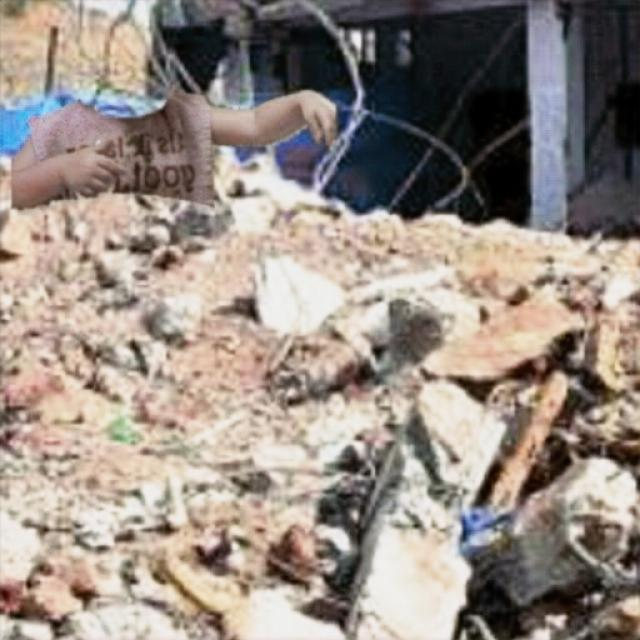Person in Rubble: (11, 85, 335, 209)
